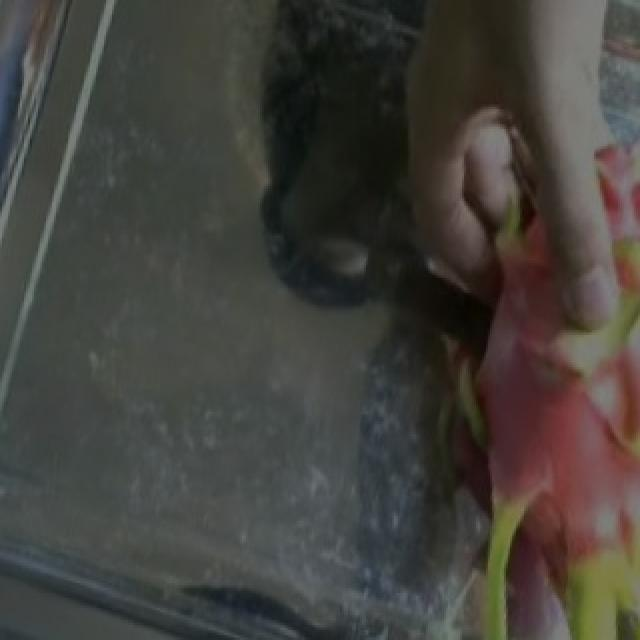fruit: (320, 228, 640, 638)
